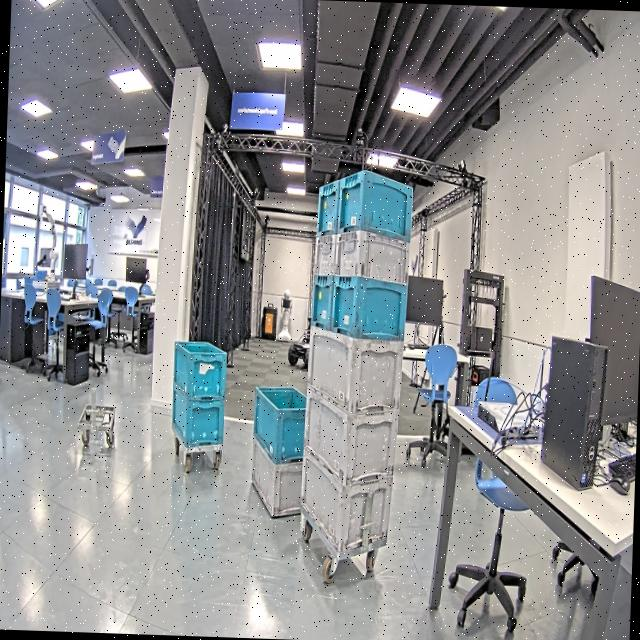Box4G: (294, 445, 393, 555), (246, 436, 306, 519)
Box8G: (302, 386, 402, 488), (307, 324, 406, 416), (334, 230, 412, 282), (313, 230, 339, 276)
BoxB4: (250, 385, 309, 466), (168, 388, 226, 448), (171, 338, 227, 398)
BoxB8: (338, 168, 416, 242), (332, 272, 406, 338), (315, 172, 342, 236), (310, 271, 336, 330)
